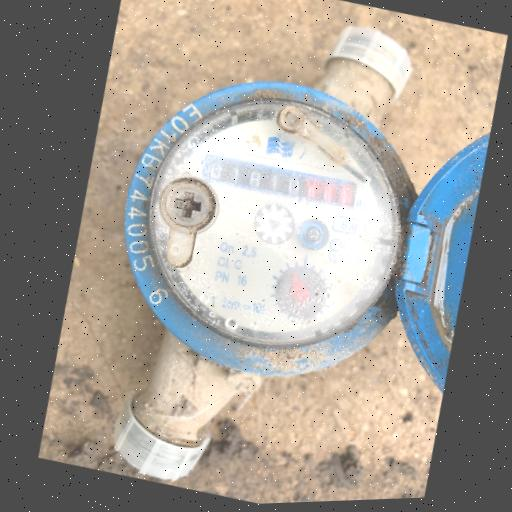0: (204, 157, 228, 182), (283, 172, 306, 198)
1: (264, 167, 286, 194), (225, 161, 247, 187), (335, 182, 355, 207)
6: (301, 176, 323, 201), (320, 180, 338, 203)
8: (245, 165, 267, 191)
border_water_meter_number: (199, 146, 360, 218)
